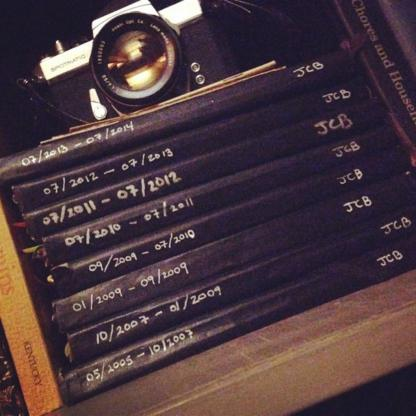Camera: (28, 1, 212, 121)
